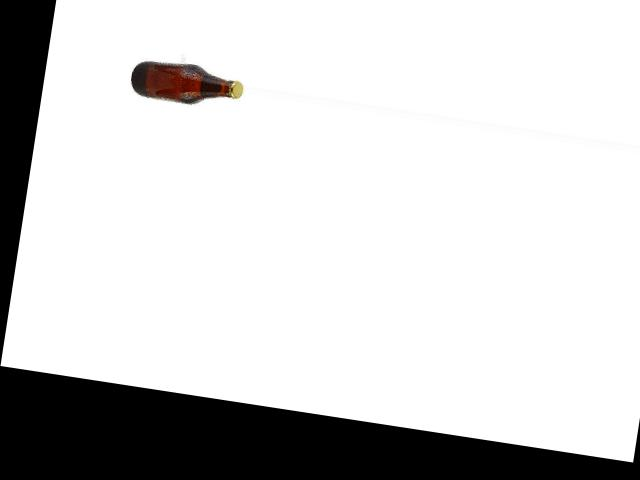beer: (129, 58, 245, 110)
